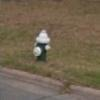a fire hydrant: (33, 26, 53, 62)
